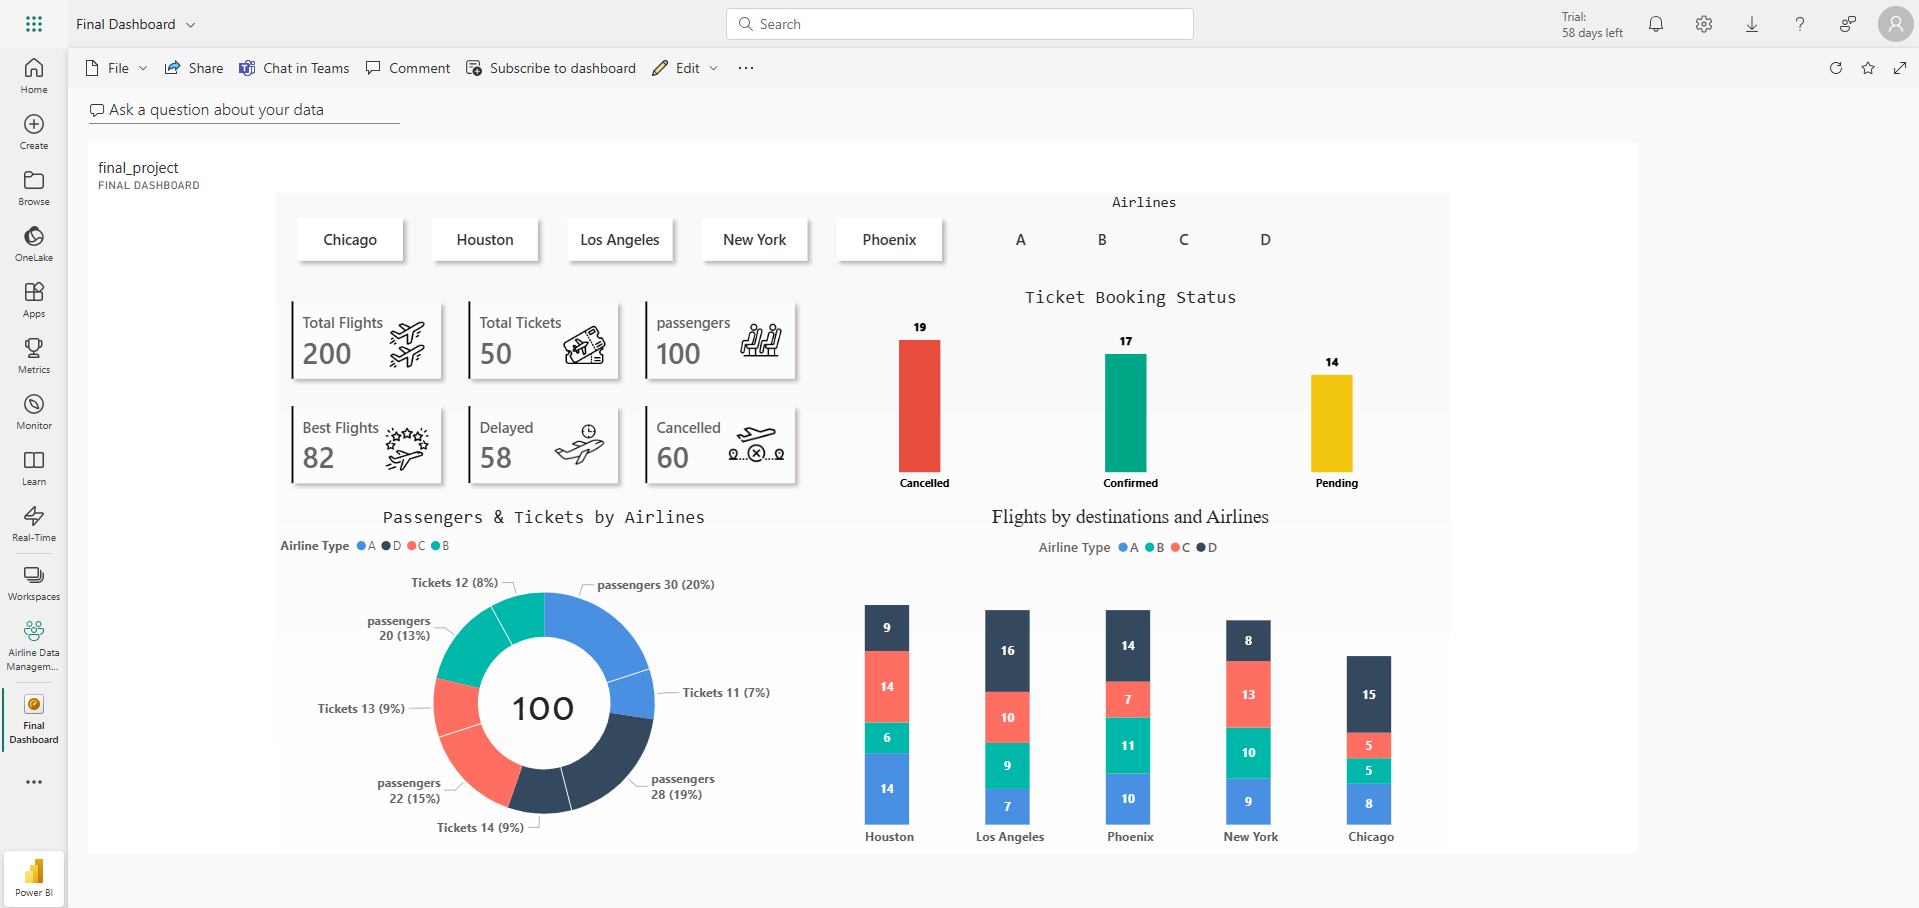

The page's visual inventory and layout, read from the dashboard file:
{"tool":"powerbi","page":{"name":"Final Dashboard","canvas":[1280,720],"ordinal":2},"visuals":[{"type":"donutChart","fields":{"Y":["measures (2).Total passengers","measures (2).Total Tickets"],"Category":["Flight_Information.Airline Type"]},"box":[0,342,585.1,378.3],"z":0},{"type":"clusteredColumnChart","title":"Ticket Booking Status","fields":{"Y":["CountNonNull(Ticket_Information.FlightID)"],"Category":["Ticket_Information.BookingStatus"]},"box":[584.2,101.6,695.8,233.1],"z":1000},{"type":"advancedSlicerVisual","title":"Destination","fields":{"Values":["Flight_Information.Destination"]},"box":[7,9.9,738,81.6],"z":2000},{"type":"advancedSlicerVisual","title":"Airlines","fields":{"Values":["Flight_Information.Airline Type"]},"box":[766.4,0,360.9,81.7],"z":3000},{"type":"cardVisual","fields":{"Data":["measures (2).Total Flights","measures (2).Total Tickets","measures (2).Total passengers","measures (2).Best Flights","measures (2).To Be Improved Flights","measures (2).critical Flights"]},"box":[0,101.6,584.2,233.1],"z":4000},{"type":"card","fields":{"Values":["measures (2).Total passengers"]},"box":[238.6,512.5,106.1,85.3],"z":5000},{"type":"columnChart","fields":{"Category":["Flight_Information.Destination"],"Series":["Flight_Information.Airline Type"],"Y":["CountNonNull(Flight_Information.FlightID)"]},"box":[585.1,342,694.9,378.3],"z":6000}]}

Visuals, with their boxes on the page's 1280x720 design canvas (x1, y1, x2, y2). These are canvas units, not pixel positions in the 1919x908 screenshot, which may show the page scaled, cropped or inside an application window:
donutChart - measures (2).Total passengers x measures (2).Total Tickets: pyautogui.locateOnScreen(0, 342, 585, 720)
"Ticket Booking Status" clusteredColumnChart: pyautogui.locateOnScreen(584, 102, 1280, 335)
"Destination" advancedSlicerVisual: pyautogui.locateOnScreen(7, 10, 745, 92)
"Airlines" advancedSlicerVisual: pyautogui.locateOnScreen(766, 0, 1127, 82)
cardVisual - measures (2).Total Flights x measures (2).Total Tickets: pyautogui.locateOnScreen(0, 102, 584, 335)
card - measures (2).Total passengers: pyautogui.locateOnScreen(239, 512, 345, 598)
columnChart - Flight_Information.Destination x Flight_Information.Airline Type: pyautogui.locateOnScreen(585, 342, 1280, 720)
